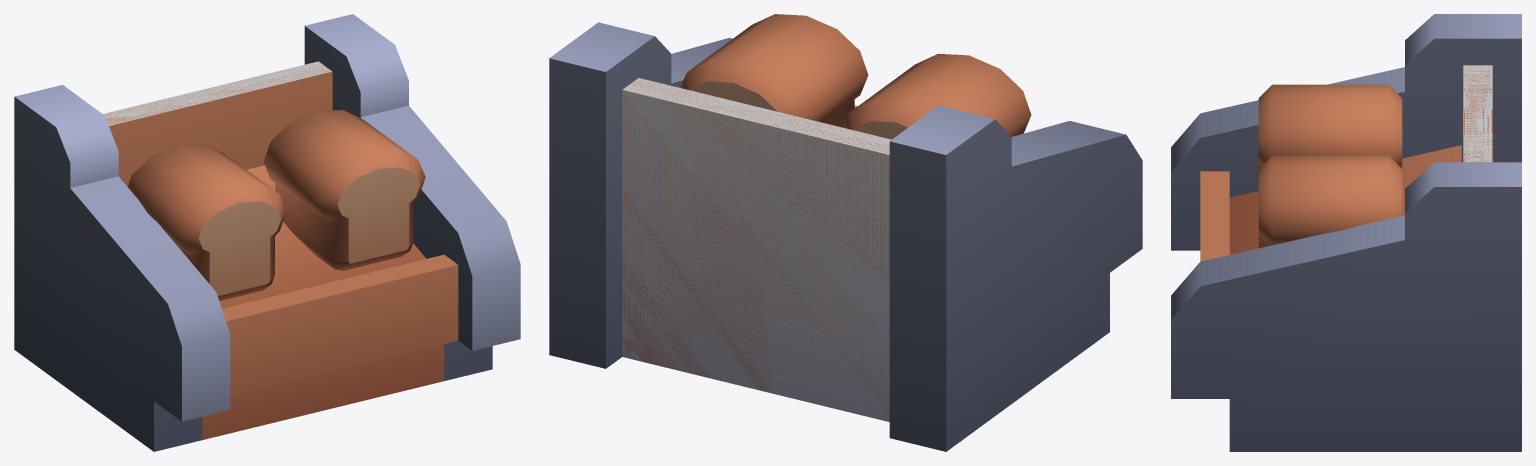
File: display-bread.glb
The picture shows the model from 3 angles, left to right: view 1: azimuth 30°, elevation 25°; view 2: azimuth 150°, elevation 25°; view 3: azimuth 270°, elevation 25°; orthographic projection. The views are drawn at different scales.
Visible parts, largest first — view 1: display-bread, bread (×2); view 2: display-bread, bread (×2); view 3: display-bread, bread (×2).
Boxes of the visible parts, x1,y1,x2,y2 form: display-bread: (14,14,520,451); bread (×2): (127,110,425,300); display-bread: (549,22,1142,451); bread (×2): (680,14,1031,139); display-bread: (1171,14,1521,451); bread (×2): (1258,84,1402,248).
Size of the model in its own units: 0.7 by 0.5 by 0.6.
